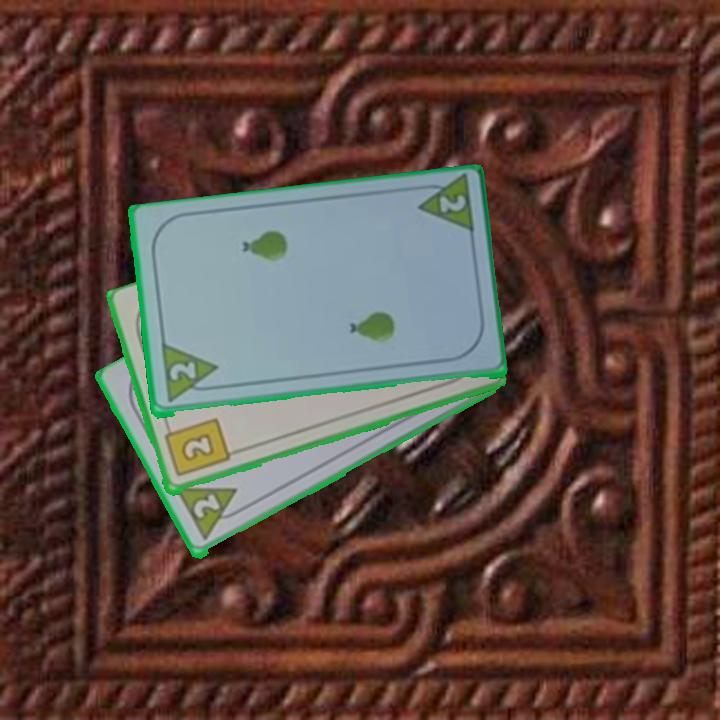2b: (160, 415, 232, 480)
2p: (173, 483, 250, 544), (435, 191, 469, 217), (165, 359, 198, 384)
